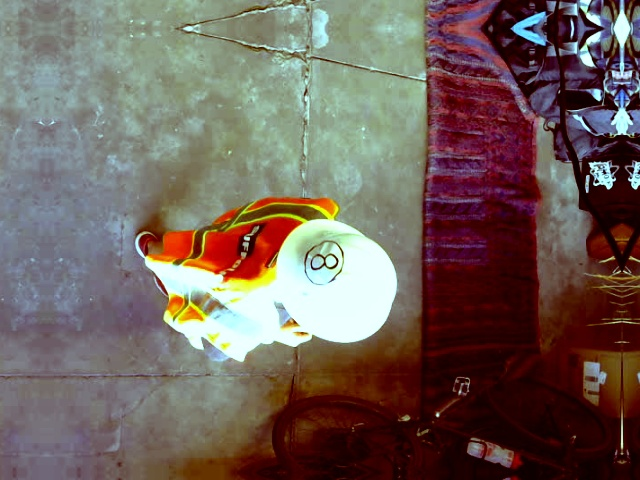eight: (302, 239, 343, 284)
